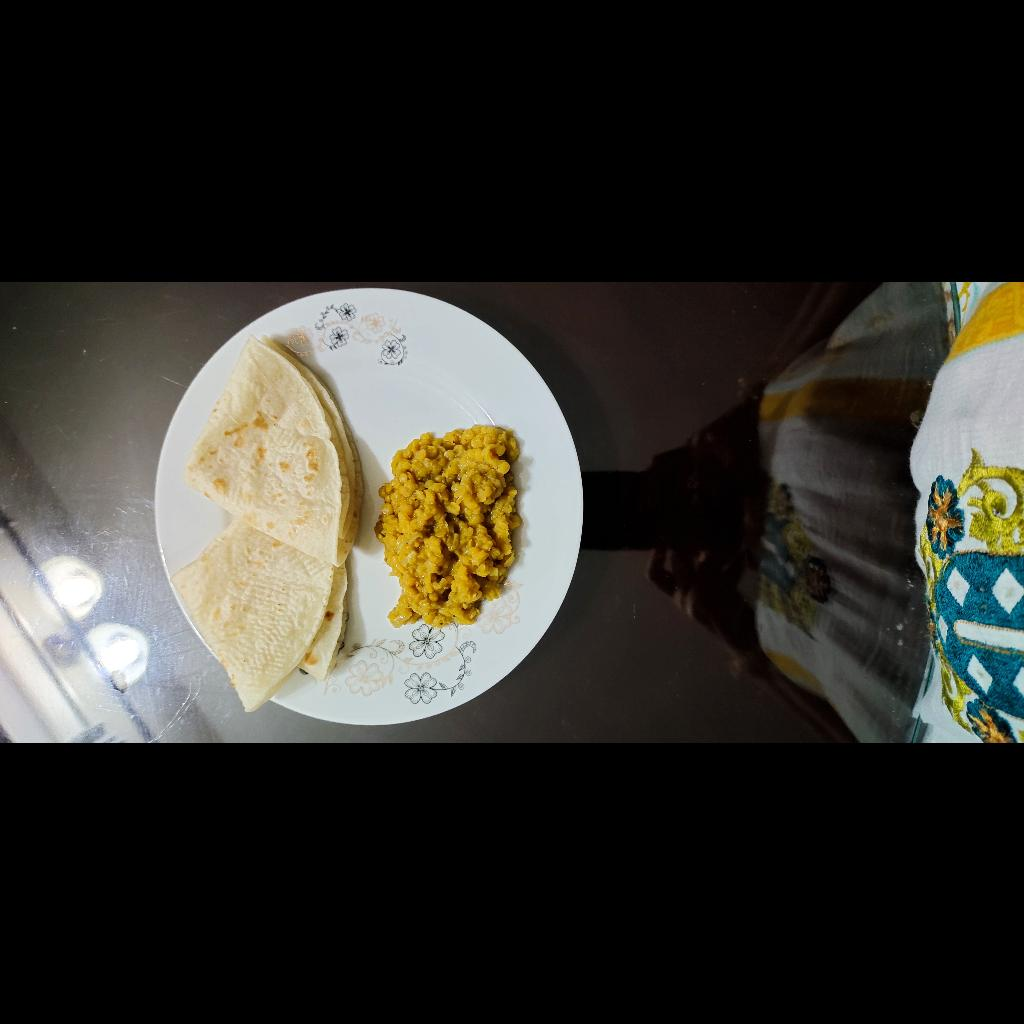daal: (110, 652, 316, 800)
ruti: (29, 448, 415, 646)
